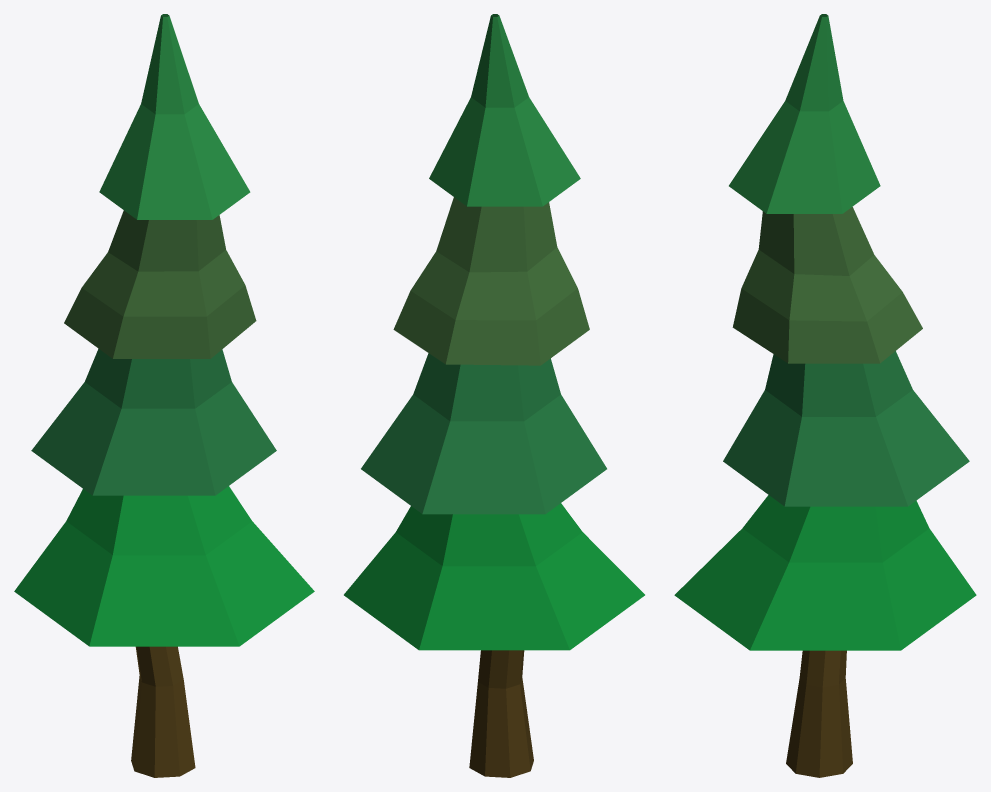
The model's file is pine tree.fbx.
The picture shows the model from 3 angles, left to right: view 1: azimuth 30°, elevation 25°; view 2: azimuth 150°, elevation 25°; view 3: azimuth 270°, elevation 25°; orthographic projection.
Parts seen in each view (by area): view 1: Cylinder; view 2: Cylinder; view 3: Cylinder.
Part boxes in pixels (<box>): Cylinder: <box>14,14,314,777</box>; Cylinder: <box>344,14,644,777</box>; Cylinder: <box>674,14,976,777</box>.
Size of the model in its own units: 160 by 507 by 185.
